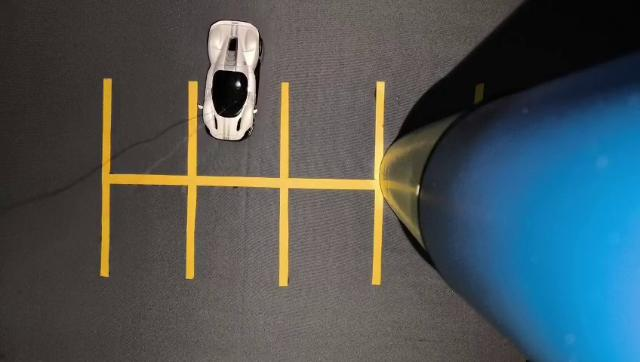toy_car: (191, 6, 279, 154)
